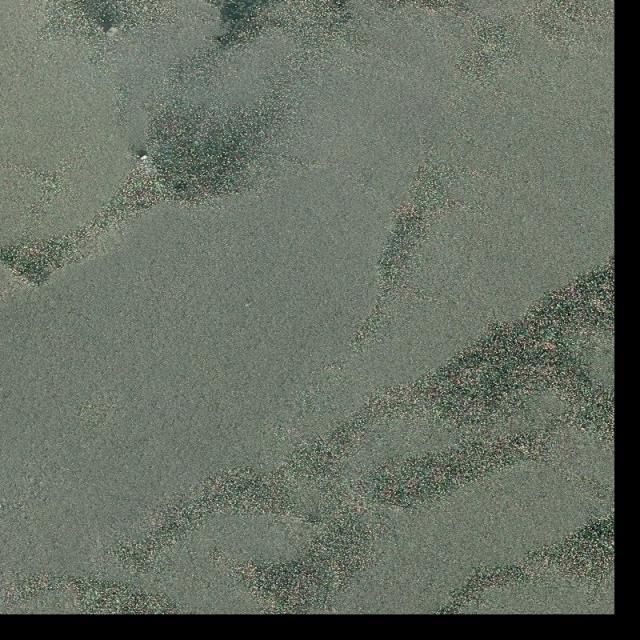ship: (135, 153, 149, 164)
